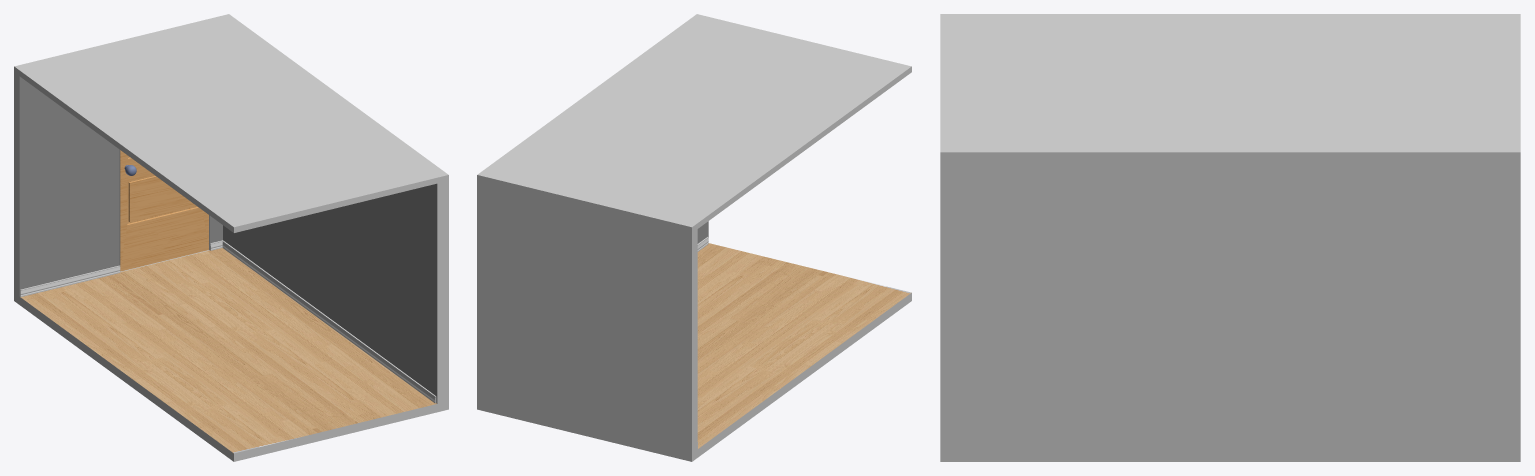
File: Zroom textured.glb
3 renders of one model, left to right at view 1: azimuth 30°, elevation 25°; view 2: azimuth 150°, elevation 25°; view 3: azimuth 270°, elevation 25°, orthographic. The views are drawn at different scales.
Visible parts, largest first — view 1: redo, Plane.001; view 2: redo; view 3: redo.
Boxes of the visible parts, x1,y1,x2,y2 form: redo: (14,14,448,461); Plane.001: (20,240,436,403); redo: (477,14,911,461); redo: (940,14,1520,461).
Bounding box in the file's own units: 44.13 × 46.05 × 78.18.
6 materials, 2 textured.
